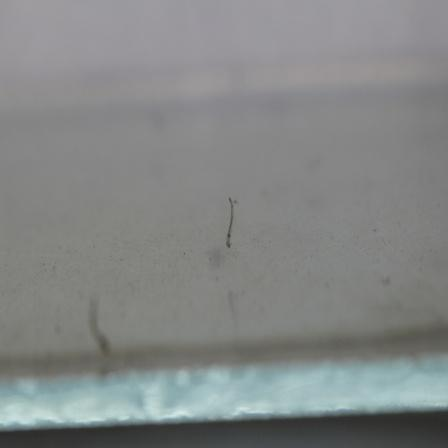Jentik-Nyamuk: (222, 192, 238, 254)
